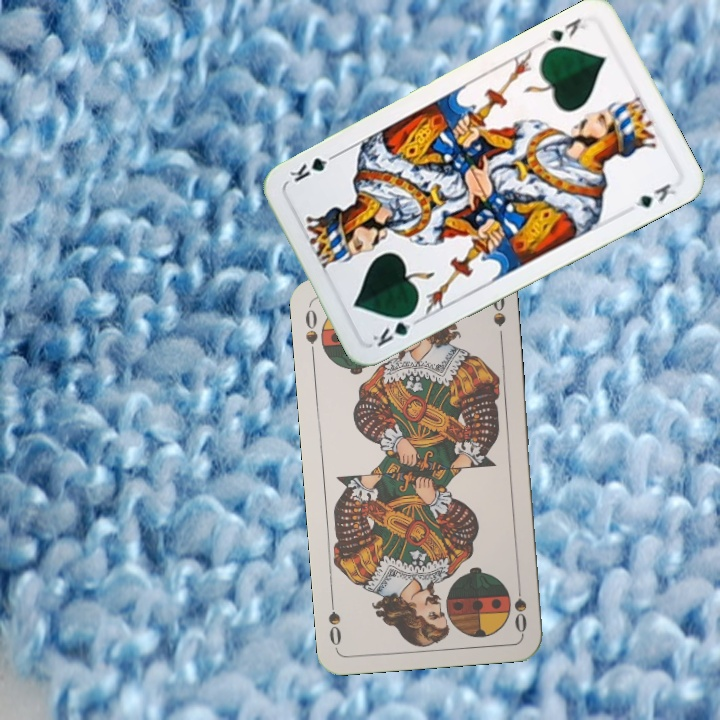GK: (368, 307, 423, 350), (542, 14, 590, 45)
SO: (510, 576, 530, 635), (301, 301, 320, 360)
